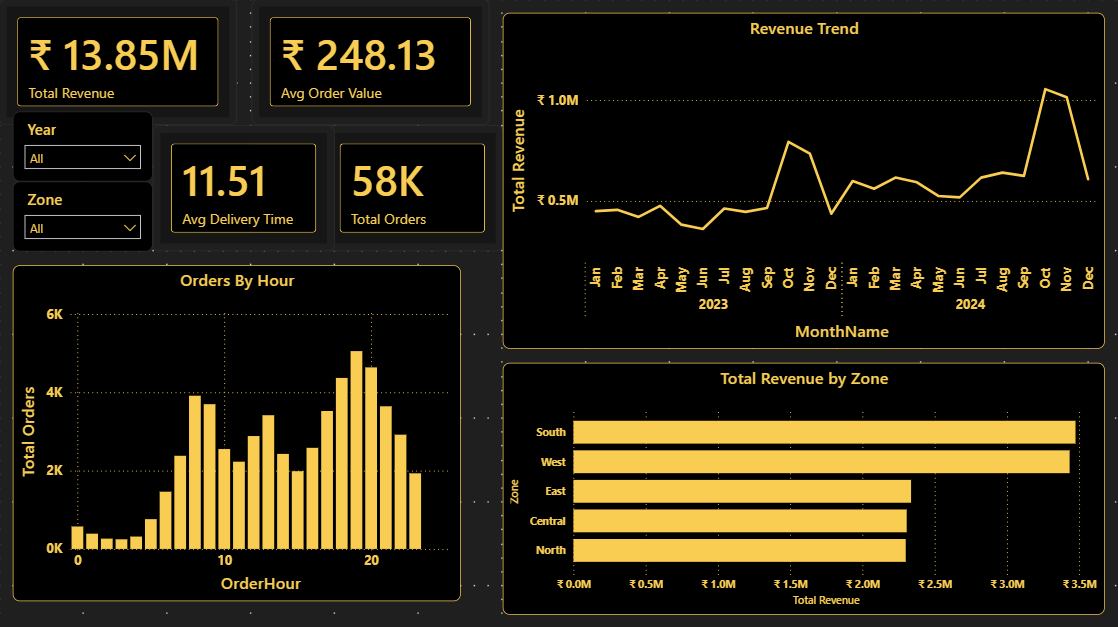

The dashboard page shown, as its layout file describes it:
{"tool":"powerbi","page":{"name":"Executive Overview","canvas":[1280,720],"ordinal":0},"visuals":[{"type":"cardVisual","fields":{"Data":["_Measures.Total Orders"]},"box":[368,144,208,144],"z":0},{"type":"cardVisual","fields":{"Data":["_Measures.Total Revenue"]},"box":[0,0,272,144],"z":1000},{"type":"cardVisual","fields":{"Data":["_Measures.Avg Order Value"]},"box":[288,0,272,144],"z":2000},{"type":"cardVisual","fields":{"Data":["_Measures.Avg Delivery Time"]},"box":[176,144,208,144],"z":3000},{"type":"clusteredColumnChart","title":"Orders By Hour","fields":{"Category":["Sales_Fact.OrderHour"],"Y":["_Measures.Total Orders"]},"box":[16,304,512,384],"z":4000},{"type":"lineChart","title":"Revenue Trend","fields":{"Y":["_Measures.Total Revenue"],"Category":["Calendar.Year","Calendar.MonthName"]},"box":[576,16,688,384],"z":5000},{"type":"clusteredBarChart","fields":{"Category":["Stores_Dim.Zone"],"Y":["_Measures.Total Revenue"]},"box":[576,416,688,288],"z":6000},{"type":"slicer","fields":{"Values":["Calendar.Year"]},"box":[16,128,160,80],"z":6001},{"type":"slicer","fields":{"Values":["Stores_Dim.Zone"]},"box":[16,208,160,80],"z":6002}]}

Visuals, with their boxes in screenshot pixels (x1, y1, x2, y2), scaled from the page's 1280x720 canvas onto the 1118x627 screenshot:
cardVisual - _Measures.Total Orders: bbox=(321, 125, 503, 251)
cardVisual - _Measures.Total Revenue: bbox=(0, 0, 238, 125)
cardVisual - _Measures.Avg Order Value: bbox=(252, 0, 489, 125)
cardVisual - _Measures.Avg Delivery Time: bbox=(154, 125, 335, 251)
"Orders By Hour" clusteredColumnChart: bbox=(14, 265, 461, 599)
"Revenue Trend" lineChart: bbox=(503, 14, 1104, 348)
clusteredBarChart - Stores_Dim.Zone x _Measures.Total Revenue: bbox=(503, 362, 1104, 613)
slicer - Calendar.Year: bbox=(14, 111, 154, 181)
slicer - Stores_Dim.Zone: bbox=(14, 181, 154, 251)
